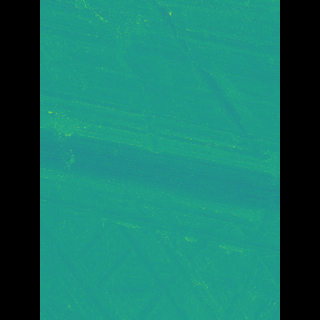Loch: (68, 186, 251, 320), (122, 0, 250, 164)
